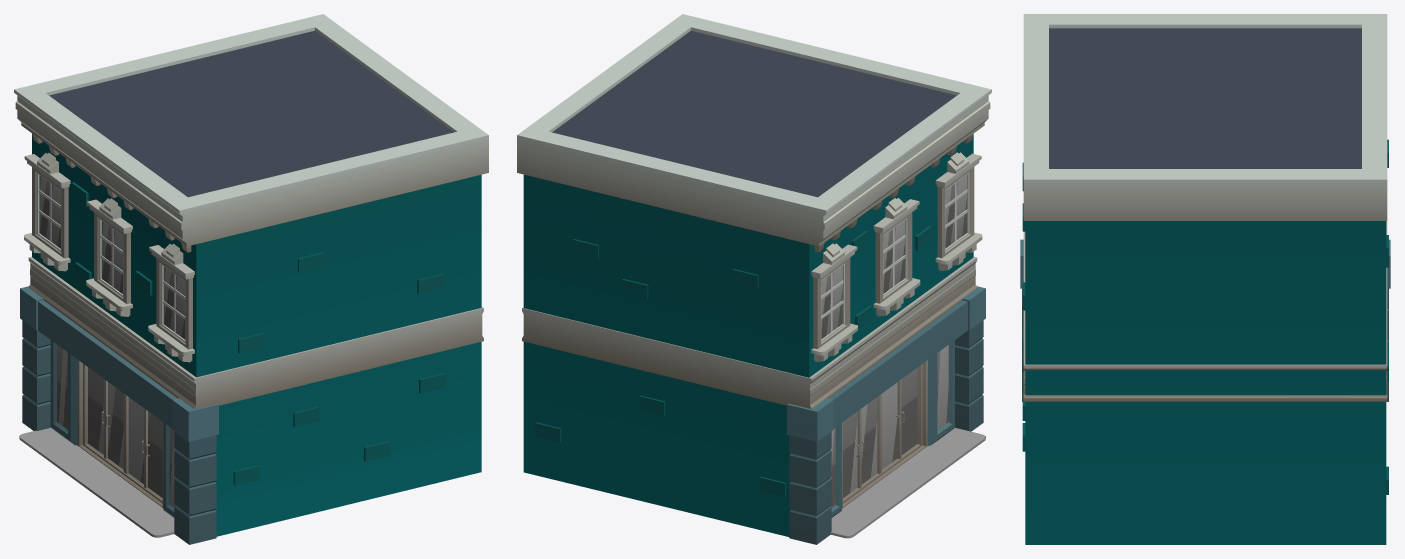
File: Building_21_4_I.fbx
The picture shows the model from 3 angles, left to right: view 1: azimuth 30°, elevation 25°; view 2: azimuth 150°, elevation 25°; view 3: azimuth 270°, elevation 25°; orthographic projection. The views are drawn at different scales.
Parts seen in each view (by area): view 1: Building_21_4_I; view 2: Building_21_4_I; view 3: Building_21_4_I.
Part boxes in pixels (x1,y1,x2,y2): Building_21_4_I: (14, 14, 488, 544); Building_21_4_I: (517, 14, 991, 544); Building_21_4_I: (1020, 14, 1390, 544).
Bounding box in the file's own units: 779 × 782 × 713.
